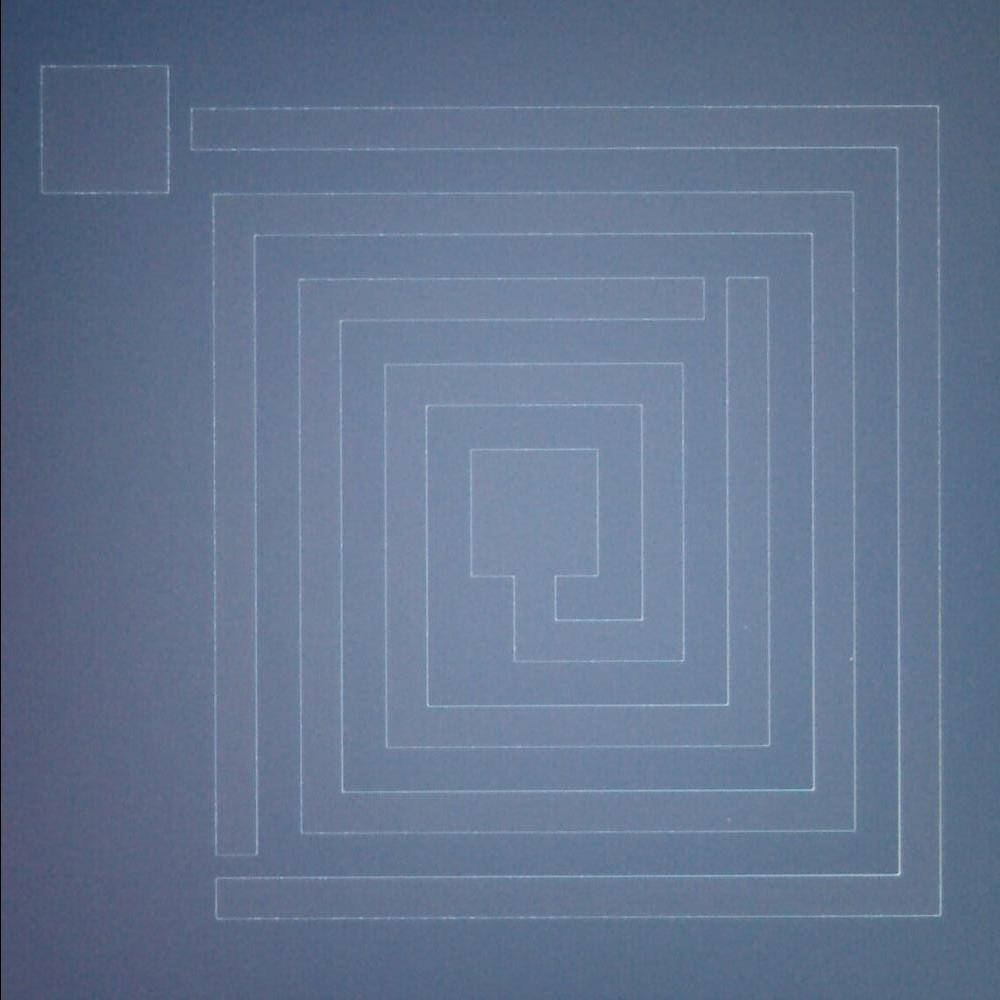short circuit: (682, 266, 742, 346), (154, 95, 216, 166), (207, 838, 266, 898)
